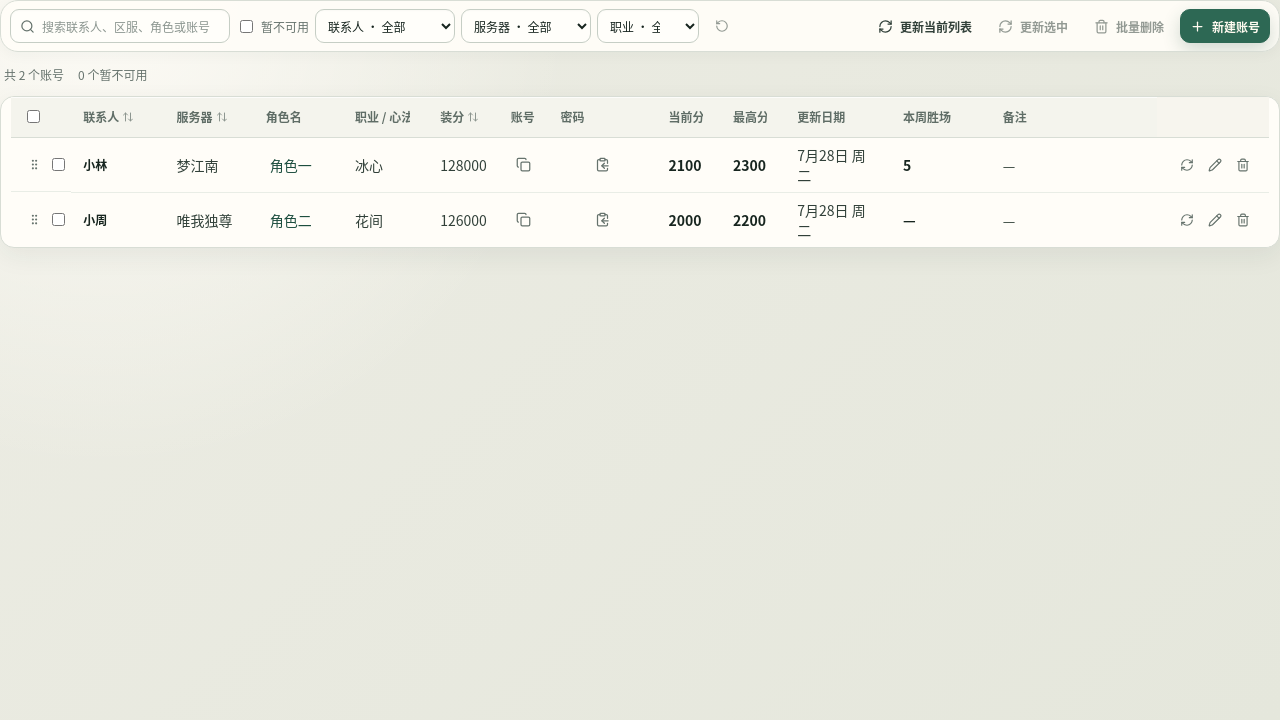
Scenario: AccountsWorkspace batch delete feedback › keeps request errors in the summary dialog without a duplicate toast
The image size is (1280, 720).
Click the button "更新当前列表" at (925, 26), box 868,9 -> 982,43
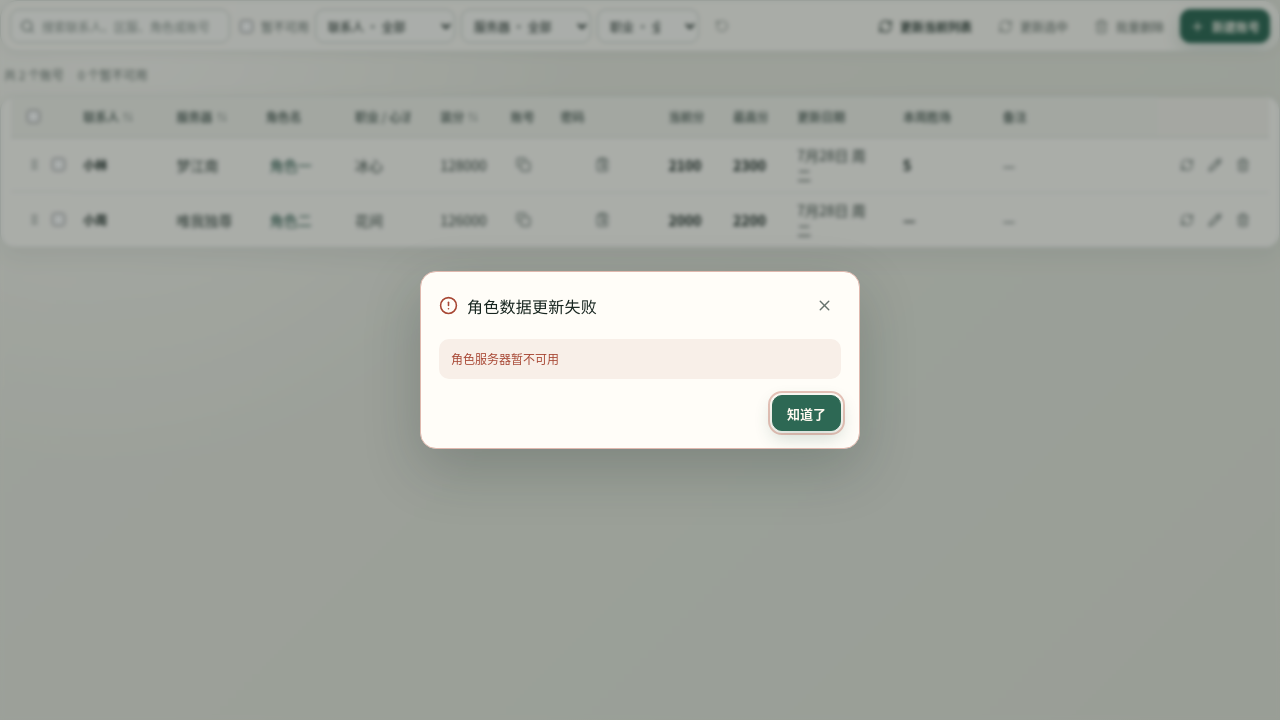
Check: the dialog shows "角色数据更新失败", box 467,299 -> 597,316
Check: the message "角色服务器暂不可用" is shown, box 439,339 -> 841,379
Click the button "知道了" at (806, 413), box 772,395 -> 841,431
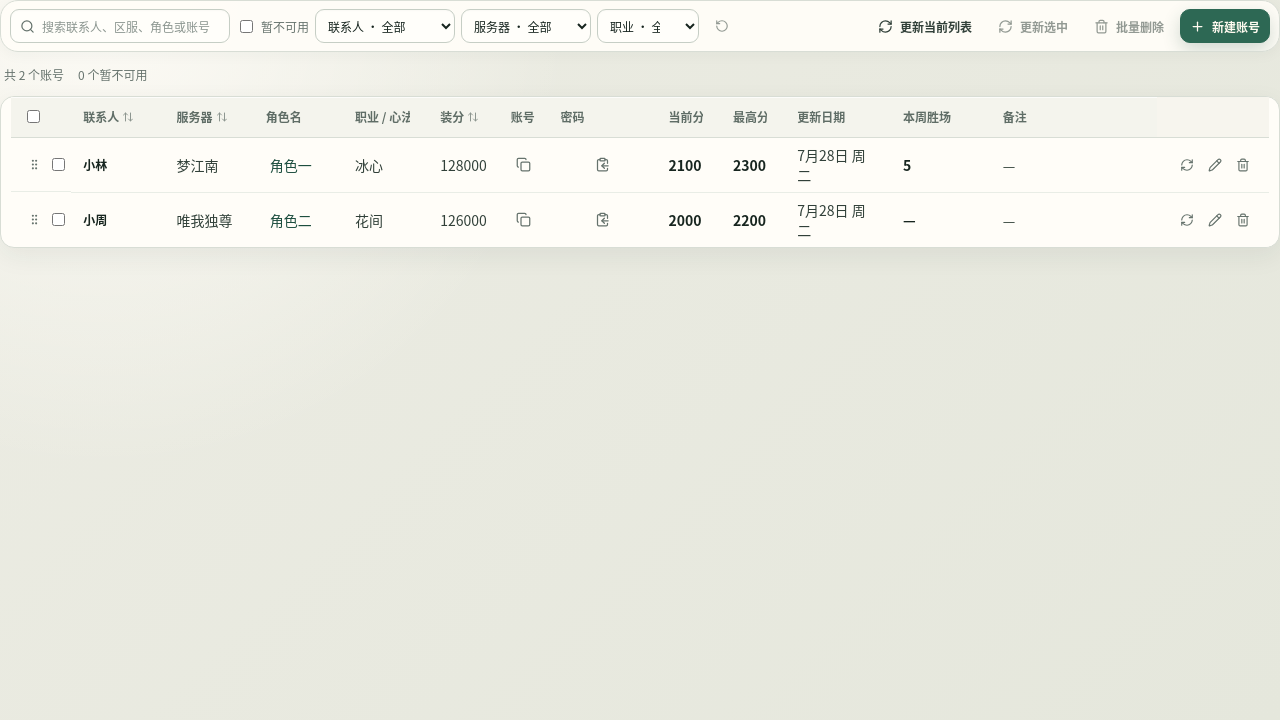
Check: the dialog is gone
